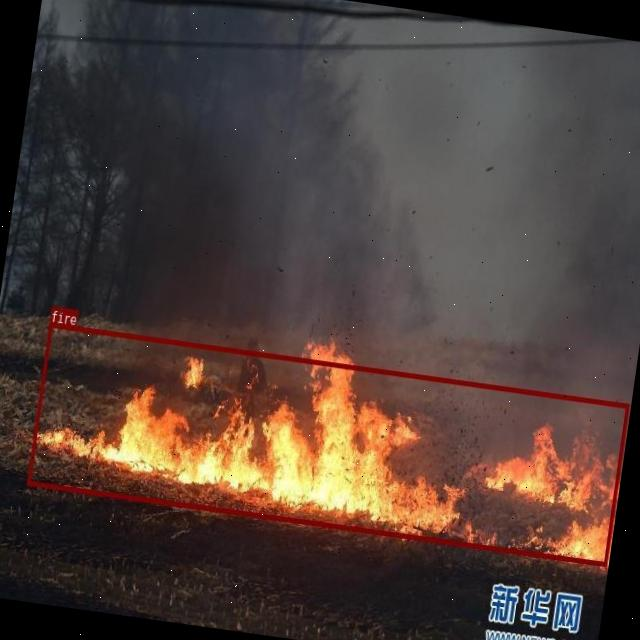fire: (28, 322, 630, 566)
